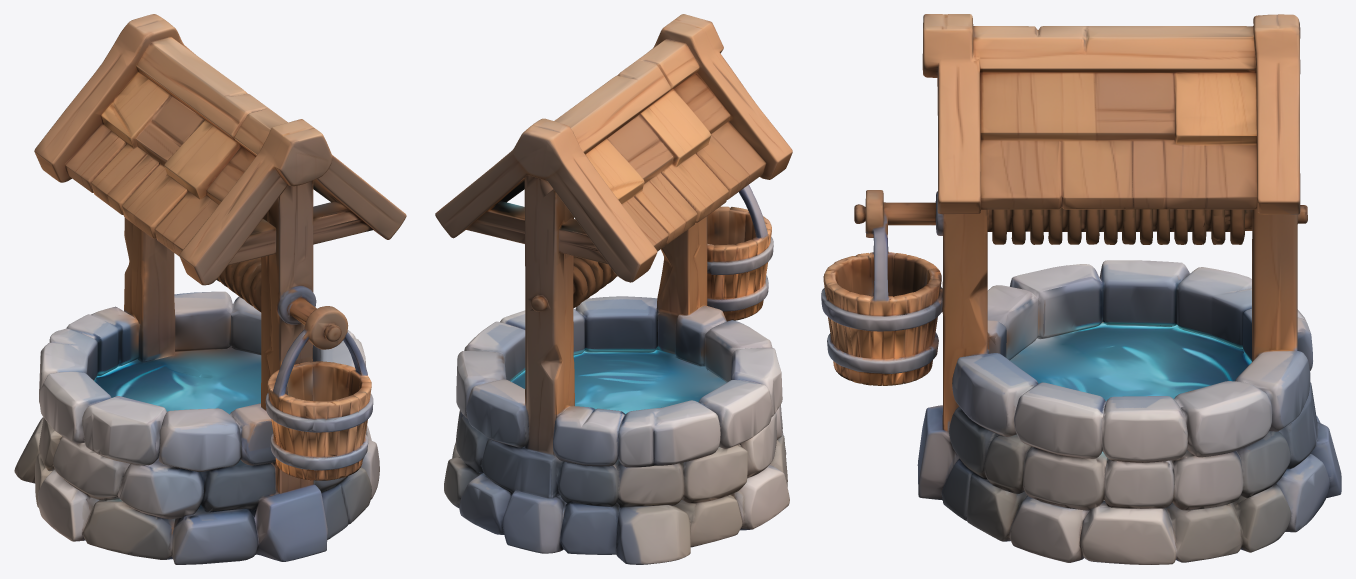
File: well.glb
3 views of the same model, side by side, from view 1: azimuth 30°, elevation 25°; view 2: azimuth 150°, elevation 25°; view 3: azimuth 270°, elevation 25° (orthographic). The views are drawn at different scales.
Visible parts, largest first — view 1: node_0; view 2: node_0; view 3: node_0.
Part boxes in pixels (left/top/right/bottom): node_0: left=14, top=14, right=406, bottom=564; node_0: left=435, top=14, right=792, bottom=564; node_0: left=821, top=14, right=1341, bottom=564.
Size of the model in its own units: 0.65 by 0.8514 by 0.8519.
1 material, 1 textured.
